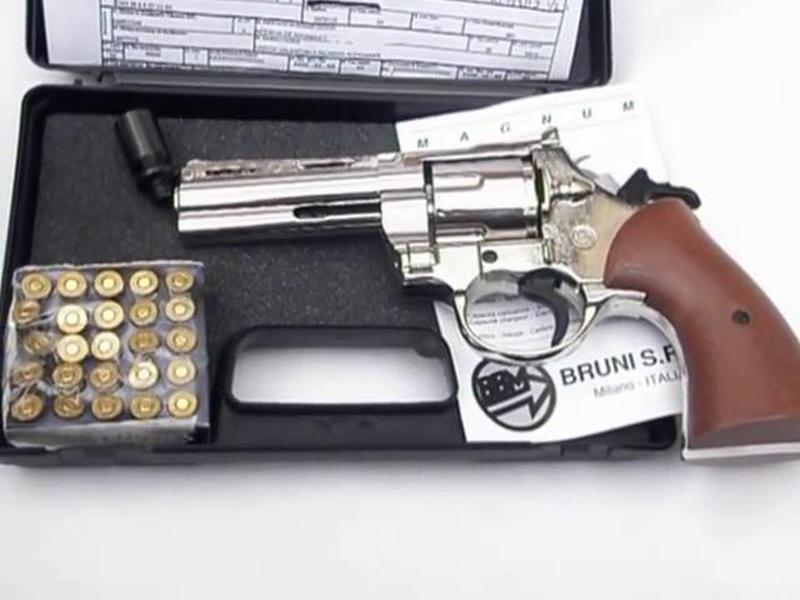Revolver: (173, 128, 800, 394)
